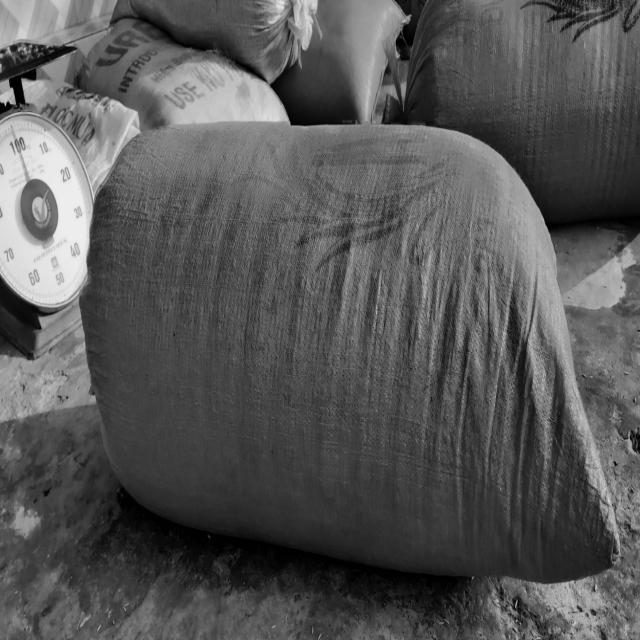gunny_bag: (80, 121, 620, 582)
